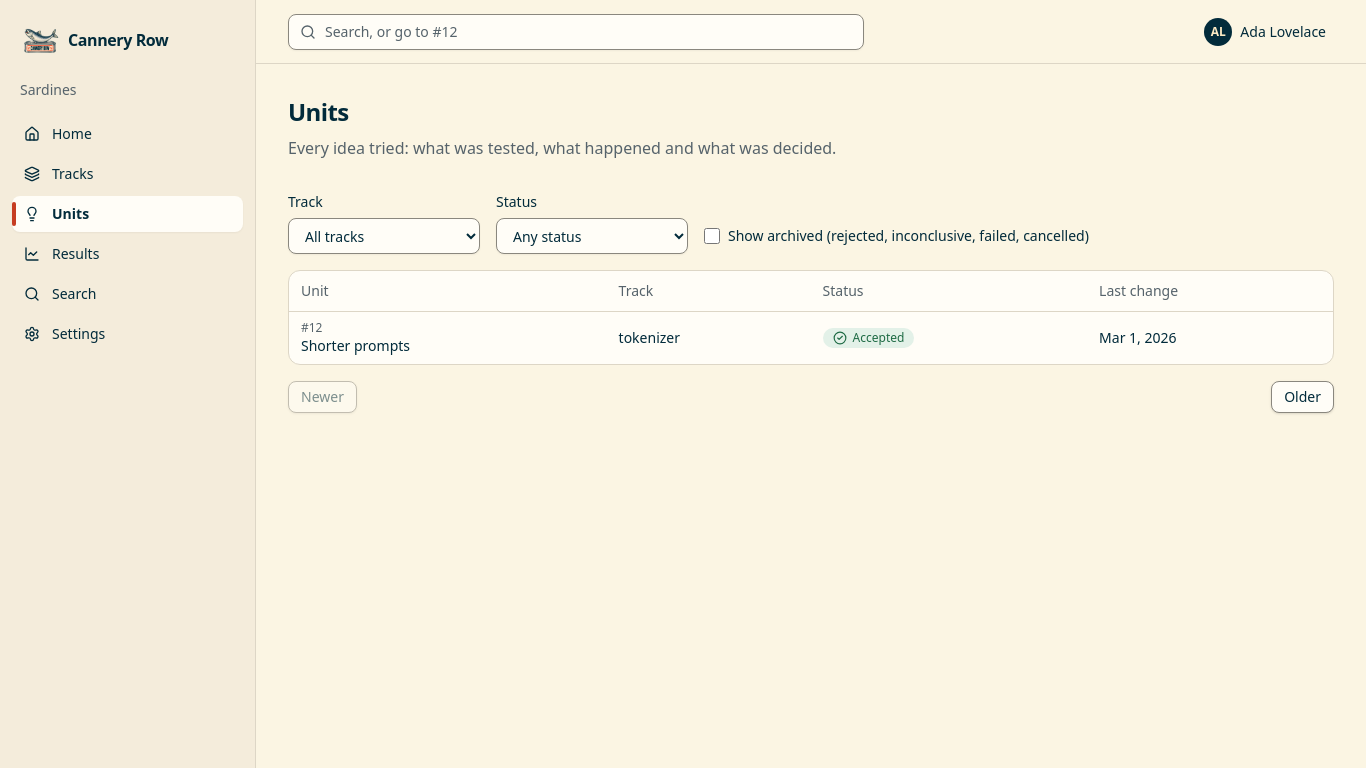
it: the units list › pages with the cursor the API returns
Expected: the link "#12 Shorter prompts" is shown, [301, 318, 410, 354]
Click the button "Older" at (1303, 396), box [1271, 380, 1334, 412]
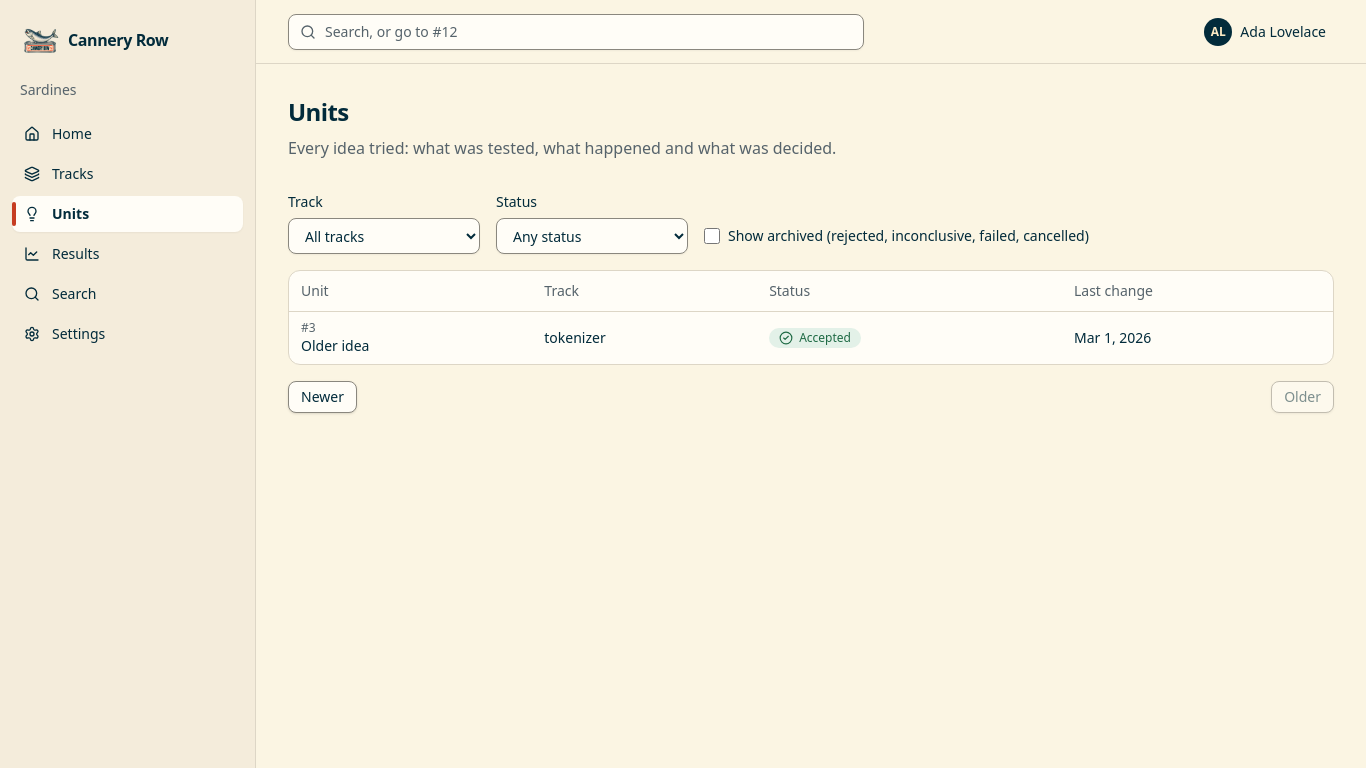
Expected: the link "#3 Older idea" is shown, [301, 318, 370, 354]
Click the button "Newer" at (322, 396), box [288, 380, 357, 412]
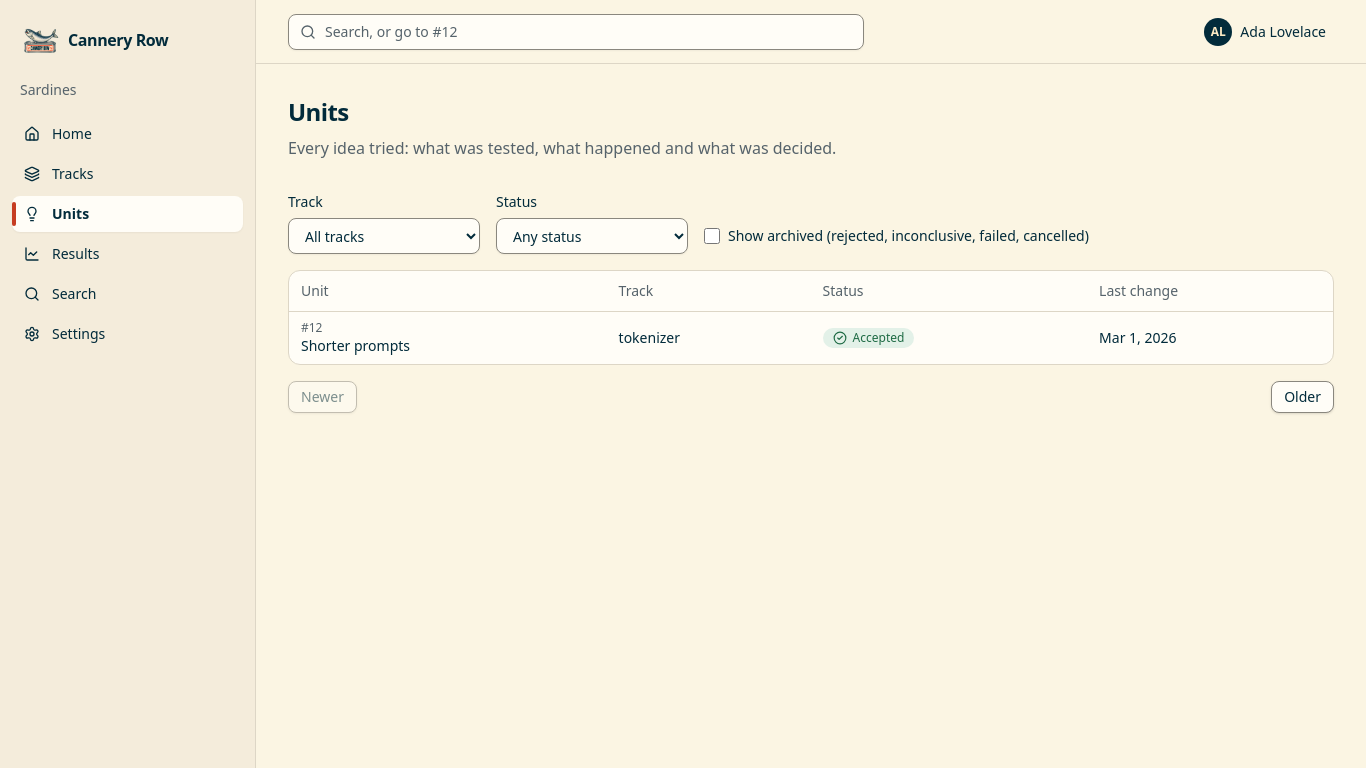
Expected: the link "#12 Shorter prompts" is shown, [301, 318, 410, 354]
